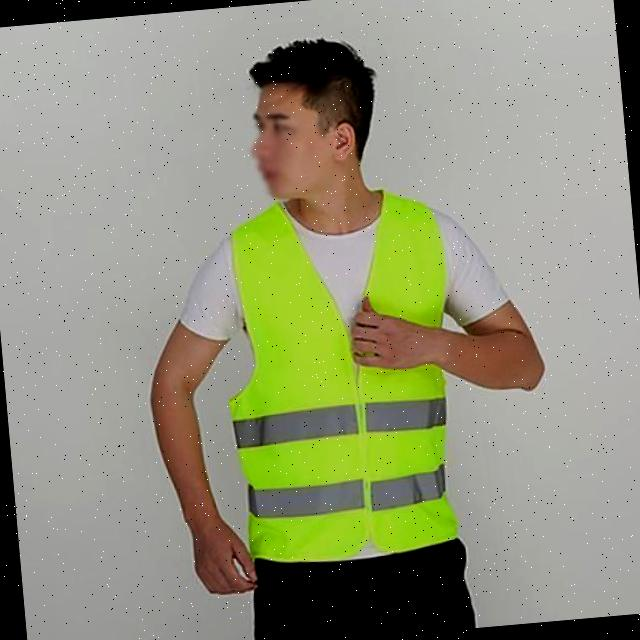vest: (227, 188, 470, 560)
